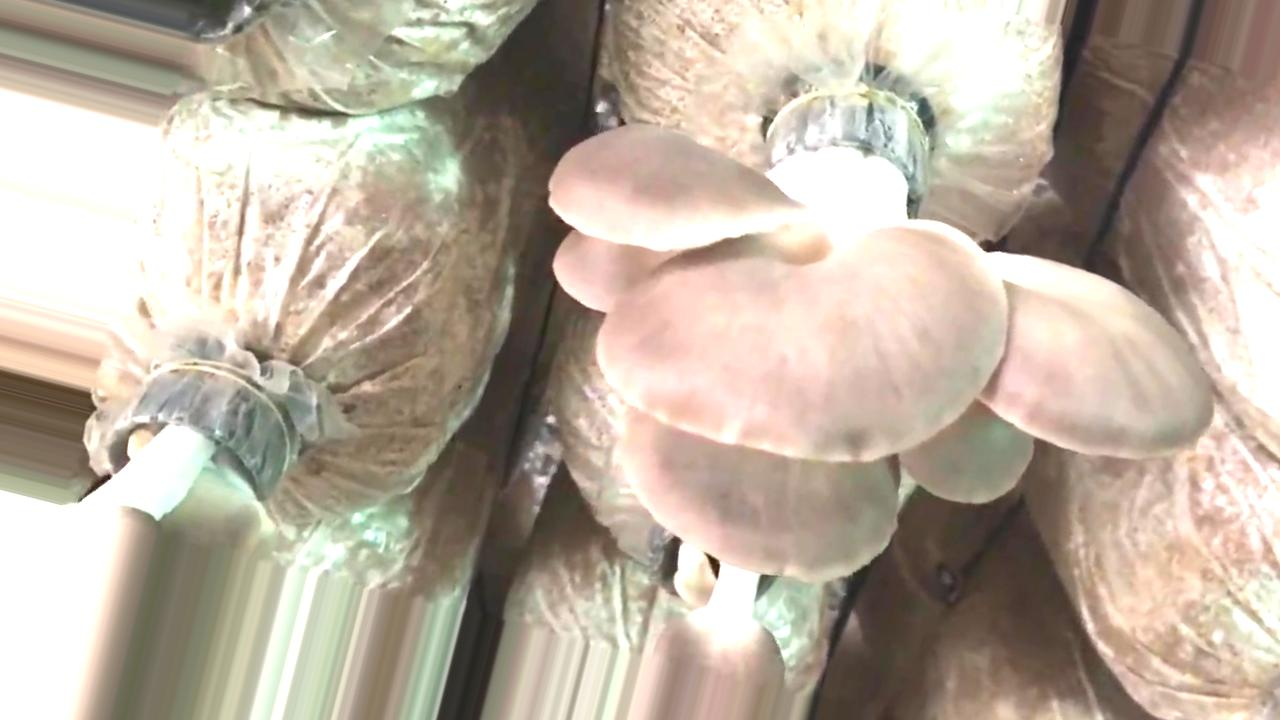nam: (548, 92, 1213, 582), (1, 359, 287, 720), (645, 531, 786, 719)
